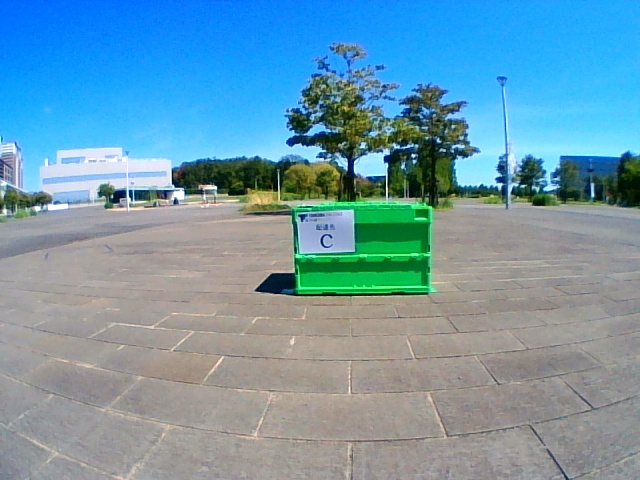green_box: (291, 202, 431, 295)
tag_c: (300, 212, 353, 252)
